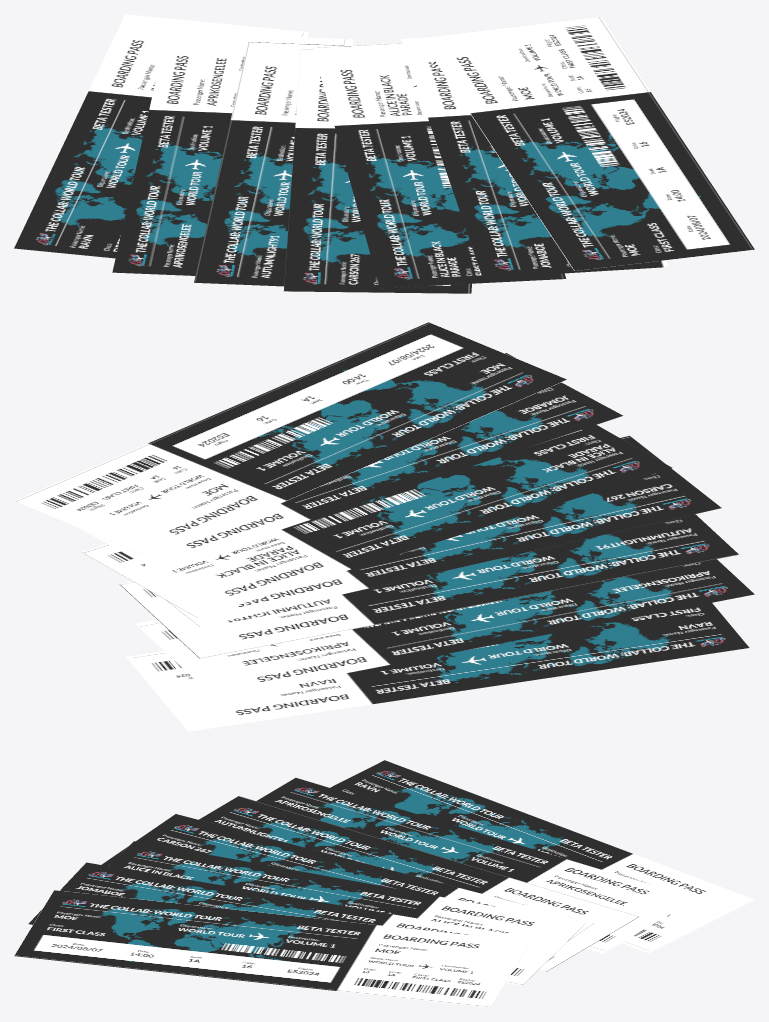
File: mdl_hub_betatesttickets.gltf
3 renders of one model, top to bottom at view 1: azimuth 30°, elevation 25°; view 2: azimuth 150°, elevation 25°; view 3: azimuth 270°, elevation 25°, orthographic. The views are drawn at different scales.
Visible parts, largest first — view 1: Plane.003; view 2: Plane.003; view 3: Plane.003.
Part boxes in pixels (x1,y1,x2,y2): Plane.003: (14,14,754,293); Plane.003: (14,322,754,731); Plane.003: (14,760,754,1007).
Size of the model in its own units: 0.4894 by 0.0245 by 0.5633.
1 material, 1 textured.
